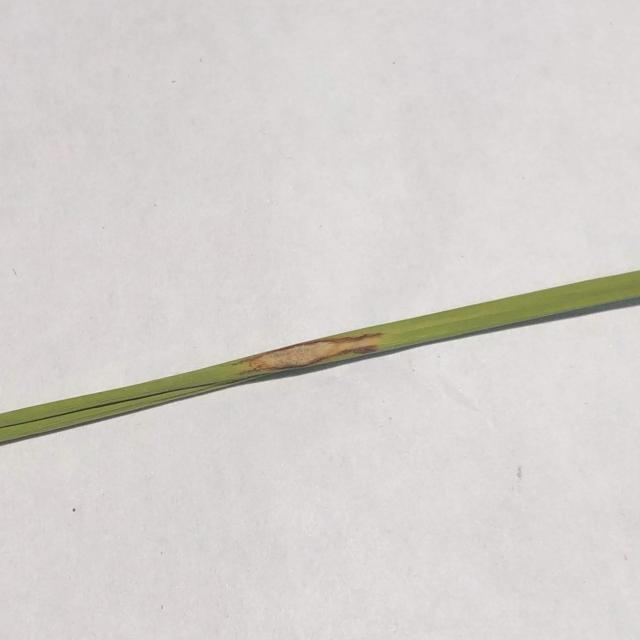Blast: (256, 356, 306, 369), (312, 344, 348, 361)
